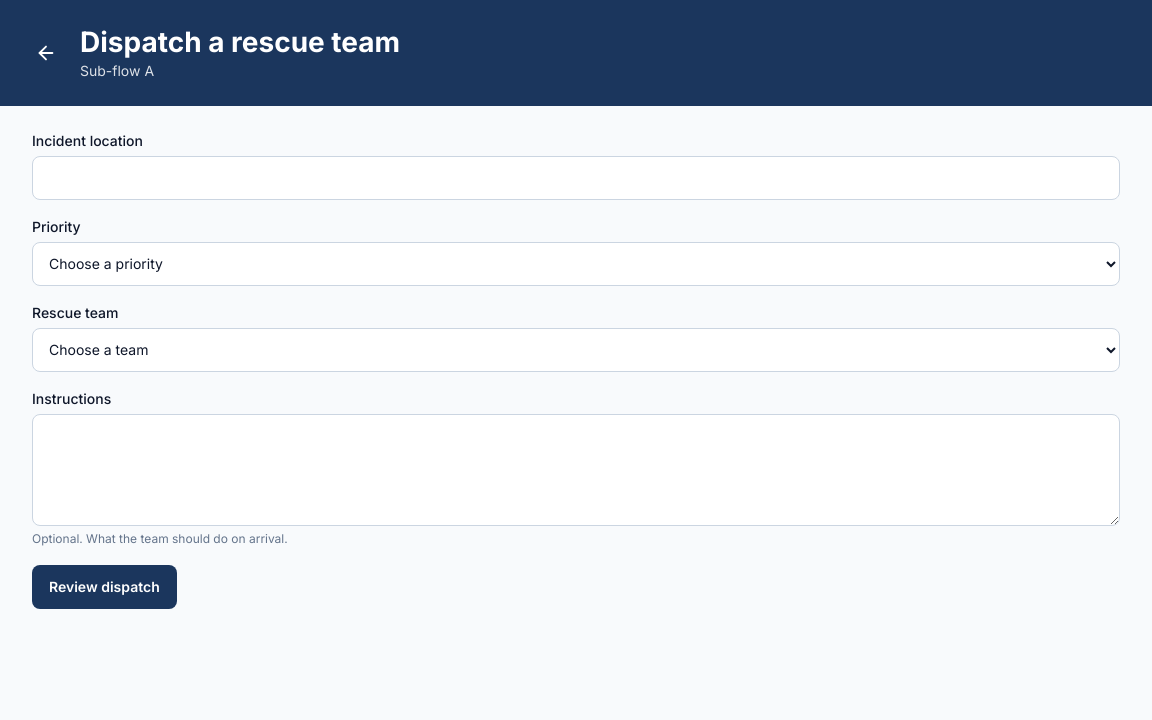
Test case: Dispatch a rescue team (A2-A4) › A2a: should block confirmation and highlight the missing fields
This screenshot has width=1152, height=720.
Click the button "Review dispatch".
click(104, 587)  # box top-left (32, 565), bottom-right (177, 609)
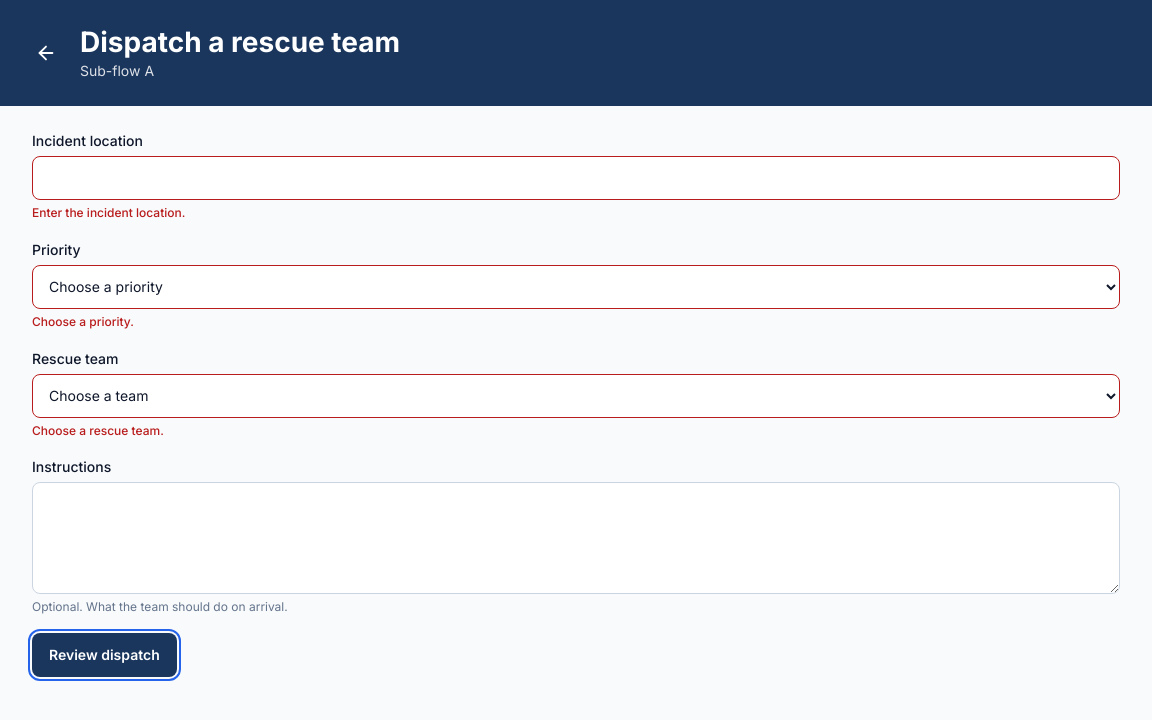
Now the text "Enter the incident location." is shown, box top-left (32, 205), bottom-right (185, 220)
Now the text "Choose a priority." is shown, box top-left (32, 314), bottom-right (134, 329)
Now the text "Choose a rescue team." is shown, box top-left (32, 423), bottom-right (164, 438)
